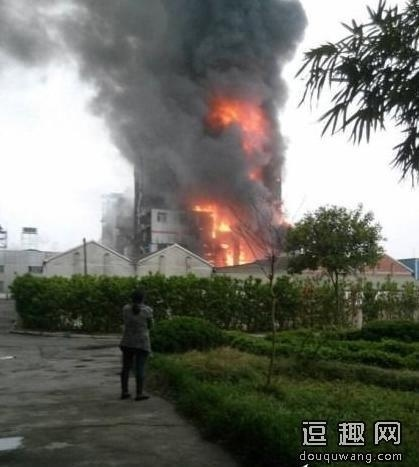fire: (192, 200, 254, 267)
